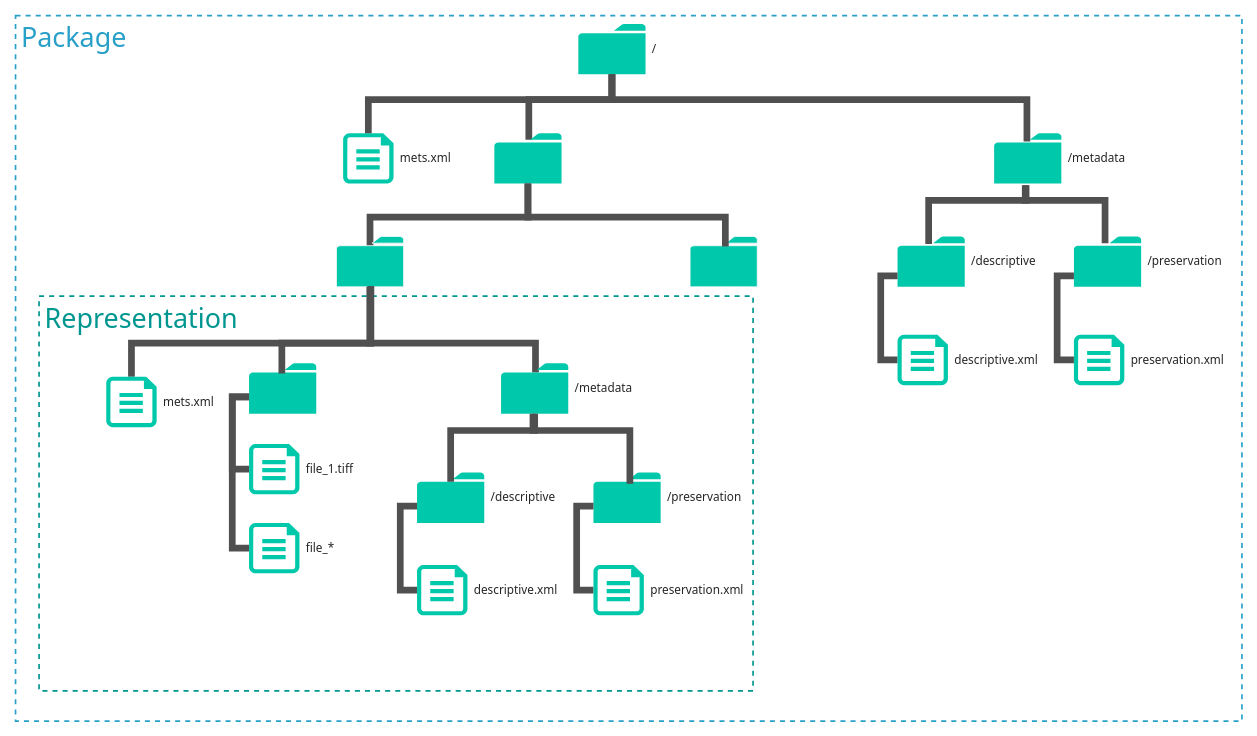
Some shapes in this 1257 by 736 pixel diagram are drawn without their labels. Each missing label, with the centre of its shape:
"/data" belongs at point 282,388.
"/representation_*" belongs at point 723,261.
"/representation_1" belongs at point 370,261.
"/representations" belongs at point 527,158.
